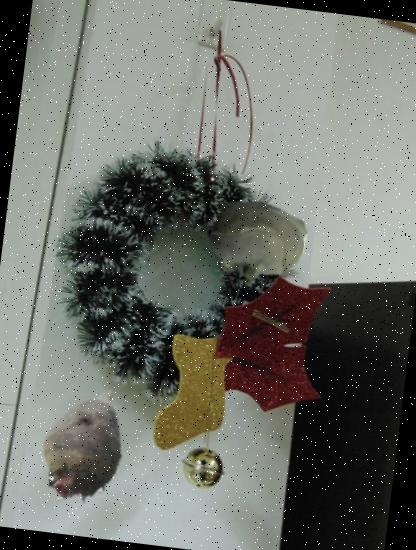Beetroot: (16, 376, 154, 514)
Kohlrabi: (202, 191, 310, 299)
